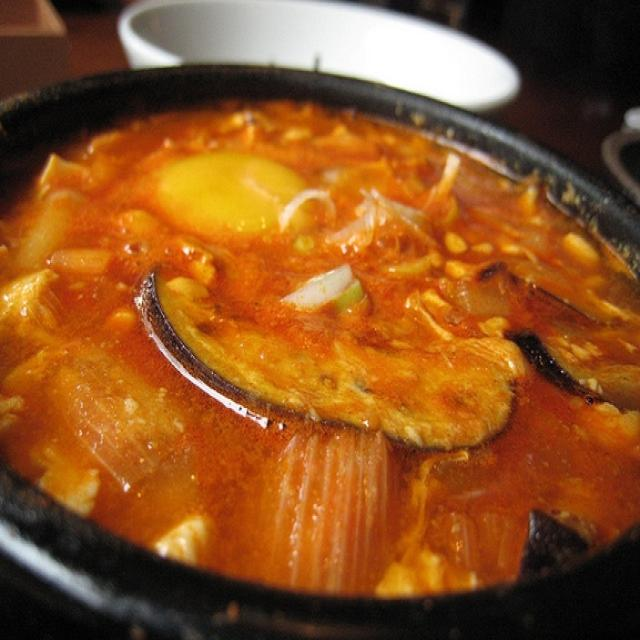汤锅炖物: (20, 68, 616, 602)
